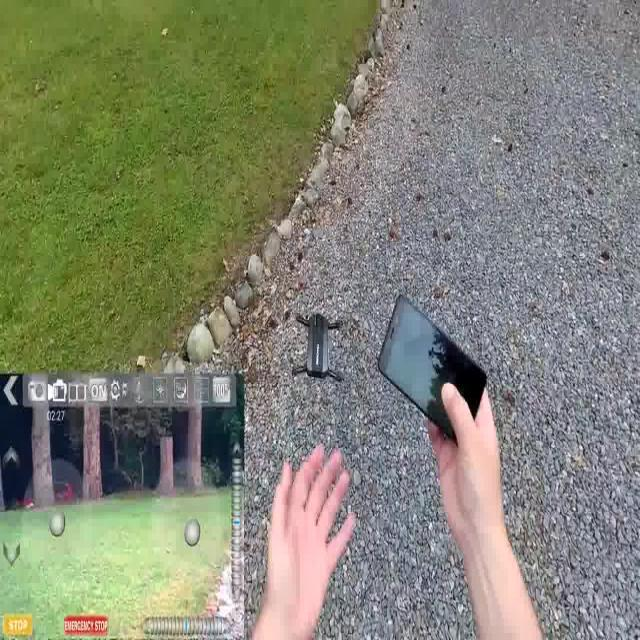drone: (293, 311, 344, 390)
